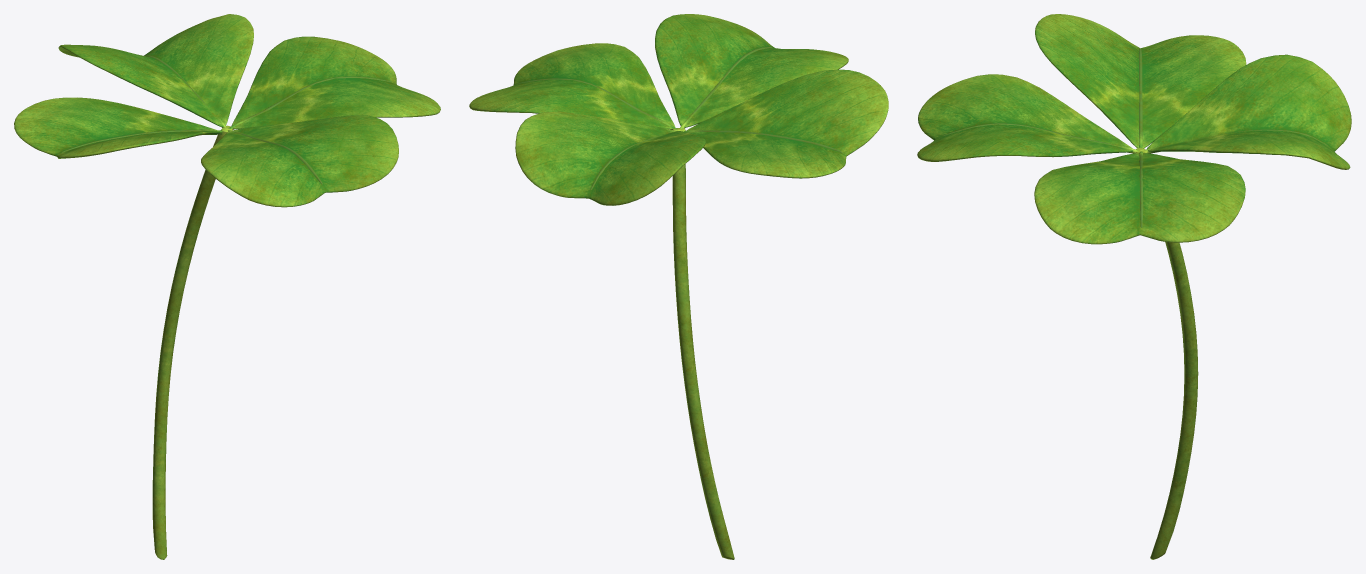
The model's file is trebol.glb.
The picture shows the model from 3 angles, left to right: view 1: azimuth 30°, elevation 25°; view 2: azimuth 150°, elevation 25°; view 3: azimuth 270°, elevation 25°; orthographic projection. The views are drawn at different scales.
Parts seen in each view (by area): view 1: node_id71; view 2: node_id71; view 3: node_id71.
Boxes of the visible parts, left/top/right/bottom form: node_id71: left=14, top=14, right=440, bottom=559; node_id71: left=469, top=14, right=888, bottom=559; node_id71: left=917, top=14, right=1351, bottom=559.
Bounding box in the file's own units: 0.416 × 0.512 × 0.4074.
Materials: 1 (1 with a texture image).
